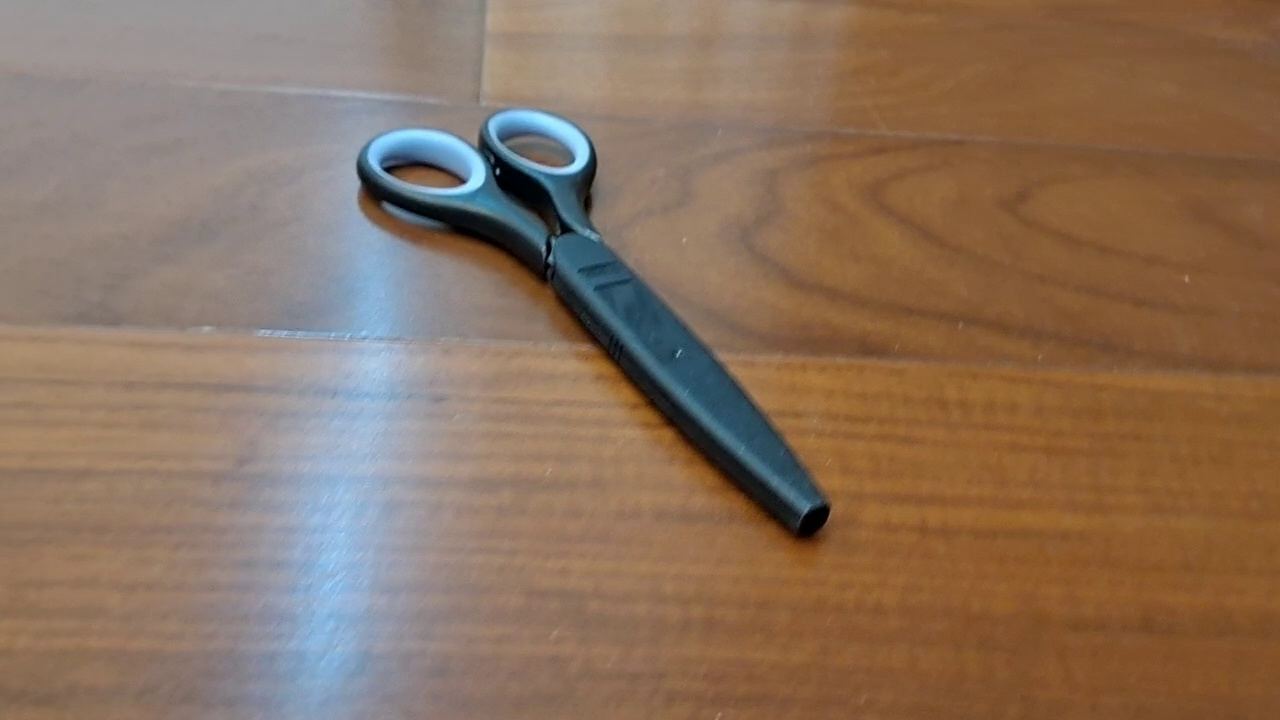scissors: (355, 106, 831, 538)
